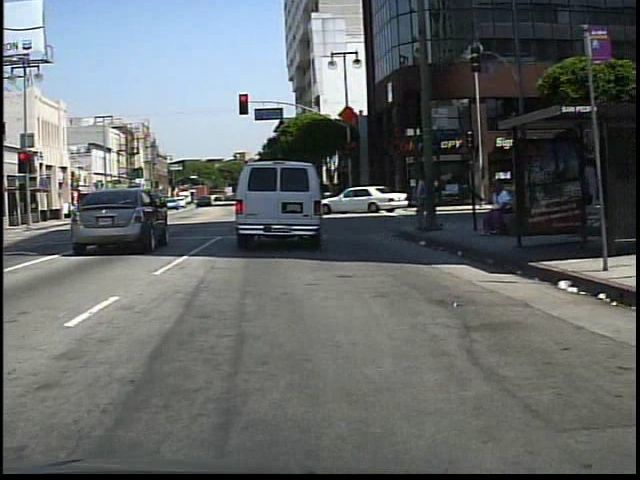person: (481, 179, 516, 239), (412, 169, 441, 233), (66, 193, 82, 223)
